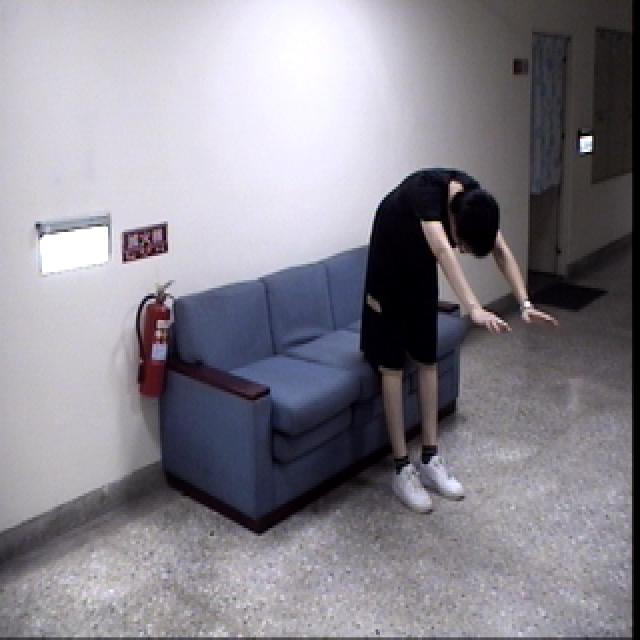bend: (364, 166, 565, 522)
